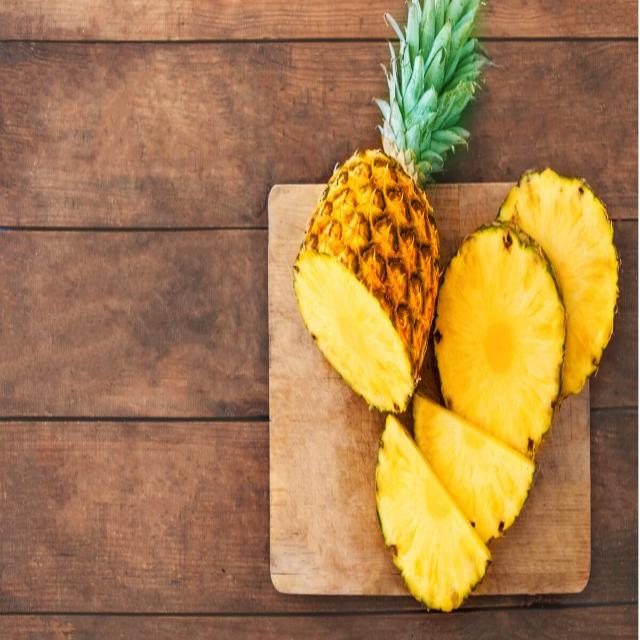pineapple: (294, 80, 448, 417)
